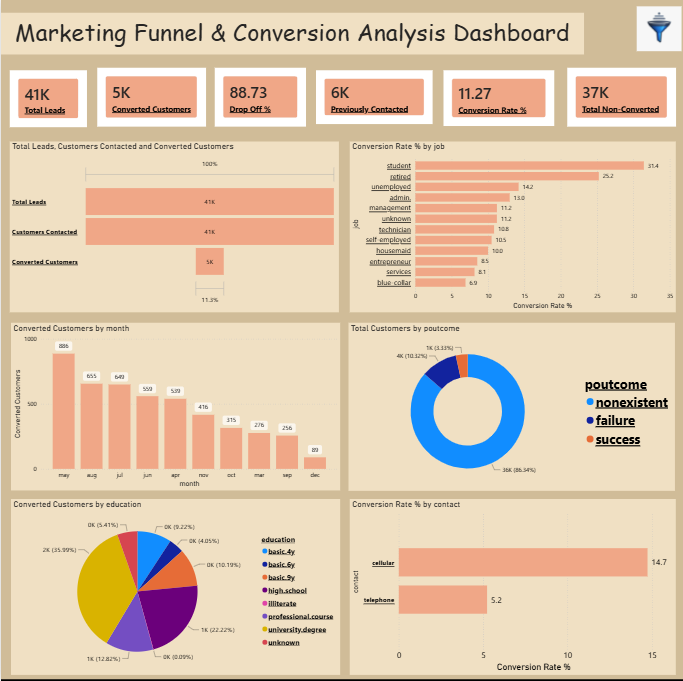

Layout of this report page (visuals, bound fields, positions):
{"tool":"powerbi","page":{"name":"Page 1","canvas":[1400,1400],"ordinal":0},"visuals":[{"type":"cardVisual","fields":{"Data":["bank-additional-full[1].Total Leads"]},"box":[16.7,145.8,158.3,116.7],"z":0},{"type":"cardVisual","fields":{"Data":["bank-additional-full[1].Converted Customers"]},"box":[197.9,141.7,222.9,120.8],"z":1000},{"type":"cardVisual","fields":{"Data":["bank-additional-full[1].Conversion Rate %"]},"box":[908.3,145.8,227.1,114.6],"z":2000},{"type":"funnel","fields":{"Y":["bank-additional-full[1].Total Leads","bank-additional-full[1].Customers Contacted","bank-additional-full[1].Converted Customers"]},"box":[16.7,291.7,675,350],"z":3000},{"type":"barChart","fields":{"Category":["bank-additional-full[1].contact"],"Y":["bank-additional-full[1].Conversion Rate %"]},"box":[714.6,1025,668.8,360.4],"z":4000},{"type":"lineStackedColumnComboChart","fields":{"Category":["bank-additional-full[1].month"],"Y":["bank-additional-full[1].Converted Customers"]},"box":[20.8,664.6,675,343.8],"z":5000},{"type":"clusteredBarChart","fields":{"Category":["bank-additional-full[1].job"],"Y":["bank-additional-full[1].Conversion Rate %"]},"box":[714.6,291.7,668.8,350],"z":6000},{"type":"donutChart","fields":{"Category":["bank-additional-full[1].poutcome"],"Y":["bank-additional-full[1].Total Customers"]},"box":[713.9,663.9,669.4,344.4],"z":7000},{"type":"actionButton","box":[1300,10.4,100,102.1],"z":8000},{"type":"cardVisual","fields":{"Data":["bank-additional-full[1].Total Non-Converted"]},"box":[1160.4,141.7,222.9,120.8],"z":8500},{"type":"cardVisual","fields":{"Data":["bank-additional-full[1].Drop Off %"]},"box":[437.5,141.7,187.5,120.8],"z":11000},{"type":"cardVisual","fields":{"Data":["bank-additional-full[1].Previously Contacted"]},"box":[645.8,145.8,239.6,110.4],"z":12000},{"type":"pieChart","fields":{"Y":["bank-additional-full[1].Converted Customers"],"Category":["bank-additional-full[1].education"]},"box":[20.8,1025,675,360.4],"z":13000},{"type":"textbox","box":[0,27.1,1195.8,85.4],"z":14000}]}

Visuals, with their boxes in screenshot pixels (x1, y1, x2, y2), scaled from the page's 1400x1400 canvas onto the 683x681 screenshot:
cardVisual - bank-additional-full[1].Total Leads: rect(8, 71, 85, 128)
cardVisual - bank-additional-full[1].Converted Customers: rect(97, 69, 205, 128)
cardVisual - bank-additional-full[1].Conversion Rate %: rect(443, 71, 554, 127)
funnel - bank-additional-full[1].Total Leads x bank-additional-full[1].Customers Contacted: rect(8, 142, 337, 312)
barChart - bank-additional-full[1].contact x bank-additional-full[1].Conversion Rate %: rect(349, 499, 675, 674)
lineStackedColumnComboChart - bank-additional-full[1].month x bank-additional-full[1].Converted Customers: rect(10, 323, 339, 491)
clusteredBarChart - bank-additional-full[1].job x bank-additional-full[1].Conversion Rate %: rect(349, 142, 675, 312)
donutChart - bank-additional-full[1].poutcome x bank-additional-full[1].Total Customers: rect(348, 323, 675, 490)
actionButton: rect(634, 5, 682, 55)
cardVisual - bank-additional-full[1].Total Non-Converted: rect(566, 69, 675, 128)
cardVisual - bank-additional-full[1].Drop Off %: rect(213, 69, 305, 128)
cardVisual - bank-additional-full[1].Previously Contacted: rect(315, 71, 432, 125)
pieChart - bank-additional-full[1].Converted Customers x bank-additional-full[1].education: rect(10, 499, 339, 674)
textbox: rect(0, 13, 583, 55)
